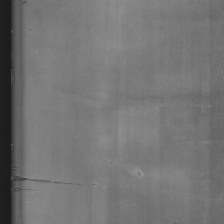crease: (10, 164, 88, 197)
